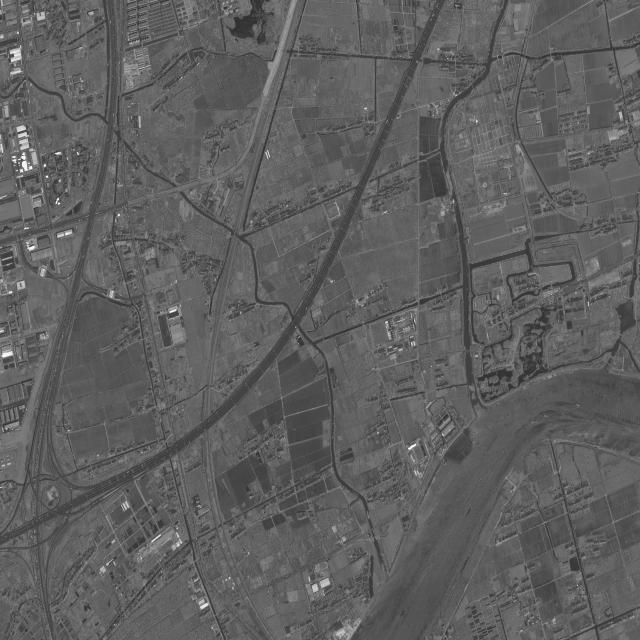ship: (466, 507, 472, 517), (428, 562, 434, 572), (400, 608, 406, 618), (476, 476, 482, 486), (483, 449, 489, 457), (574, 402, 582, 408), (561, 412, 570, 417), (498, 451, 504, 458), (590, 419, 597, 423), (579, 421, 585, 425), (530, 421, 537, 424), (506, 447, 510, 452), (542, 415, 549, 417), (560, 423, 565, 425)
